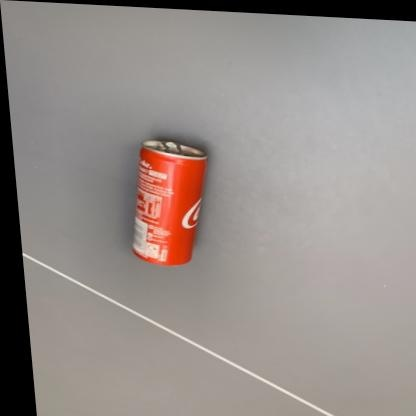trash: (133, 139, 206, 264)
